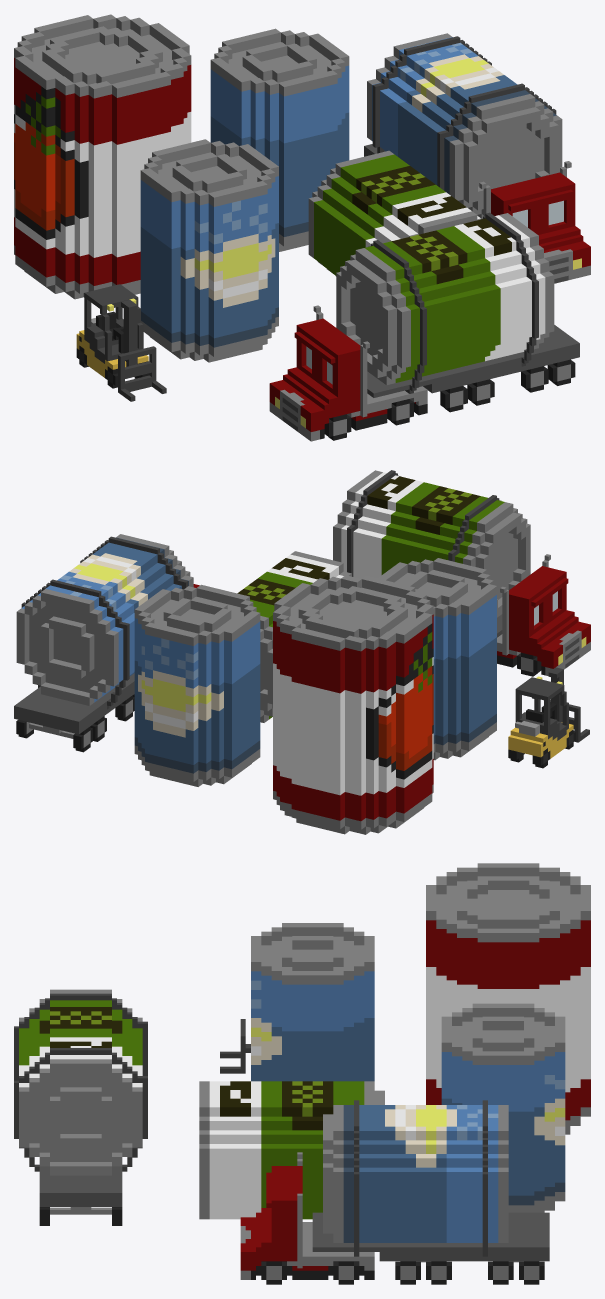
Rendered from soup-1.obj.
The picture shows the model from 3 angles, top to bottom: view 1: azimuth 30°, elevation 25°; view 2: azimuth 150°, elevation 25°; view 3: azimuth 270°, elevation 25°; orthographic projection. The views are drawn at different scales.
Parts seen in each view (by area): view 1: soup-1; view 2: soup-1; view 3: soup-1.
Part boxes in pixels (x1,y1,x2,y2): soup-1: (14,14,590,441); soup-1: (14,470,590,834); soup-1: (14,863,590,1284).
Bounding box in the file's own units: 110 × 46 × 112.
1 material, 1 textured.
